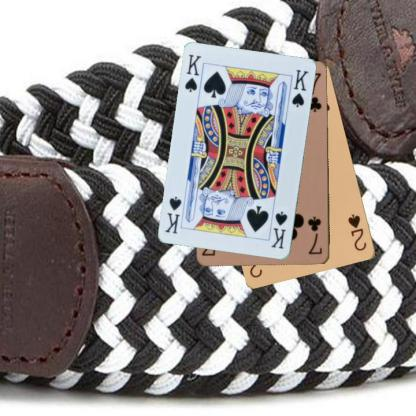2s: (346, 212, 368, 252)
7c: (306, 214, 324, 256)
Ks: (182, 52, 203, 94), (269, 209, 289, 250)
